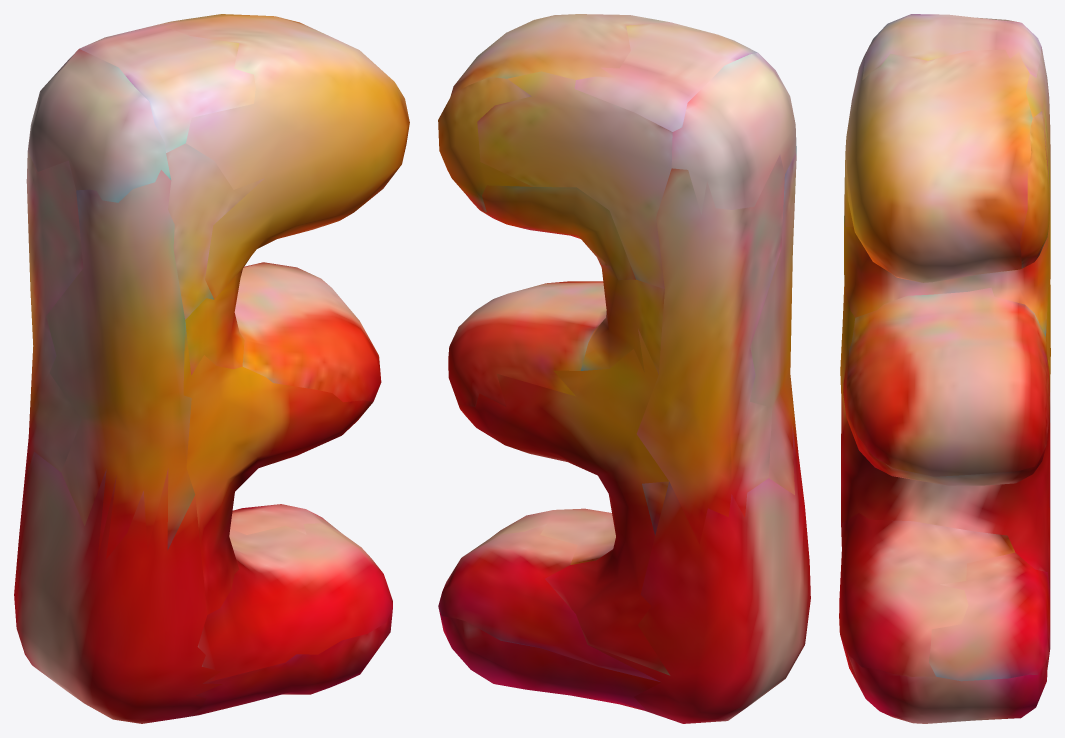
3 views of the same model, side by side, from view 1: azimuth 30°, elevation 25°; view 2: azimuth 150°, elevation 25°; view 3: azimuth 270°, elevation 25° (orthographic). The views are drawn at different scales.
Parts seen in each view (by area): view 1: Candy-Letter-E; view 2: Candy-Letter-E; view 3: Candy-Letter-E.
Boxes of the visible parts, left/top/right/bottom form: Candy-Letter-E: left=14, top=14, right=409, bottom=723; Candy-Letter-E: left=438, top=14, right=810, bottom=723; Candy-Letter-E: left=839, top=14, right=1050, bottom=723.
Bounding box in the file's own units: 0.1792 × 0.3337 × 0.1025.
Materials: 1 (1 with a texture image).
